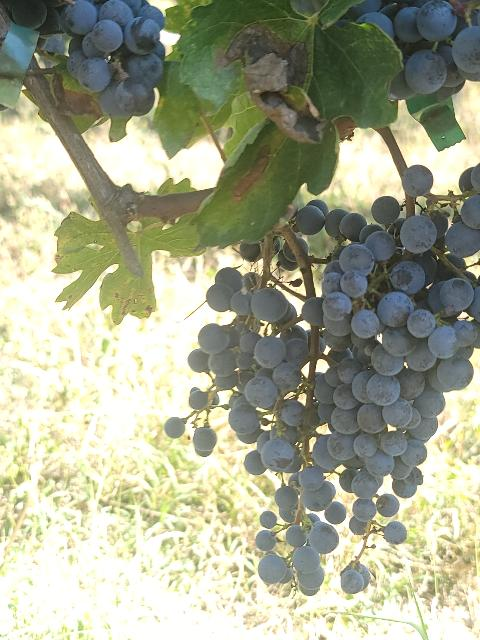grapes: (165, 200, 366, 596), (325, 165, 480, 529)
